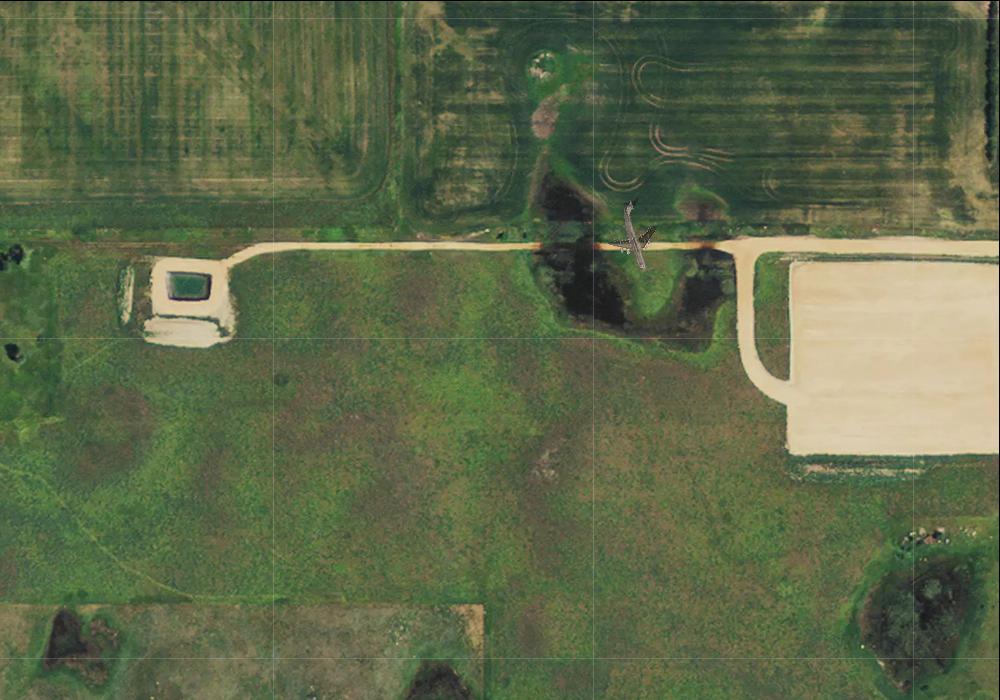plane: (593, 190, 679, 281)
